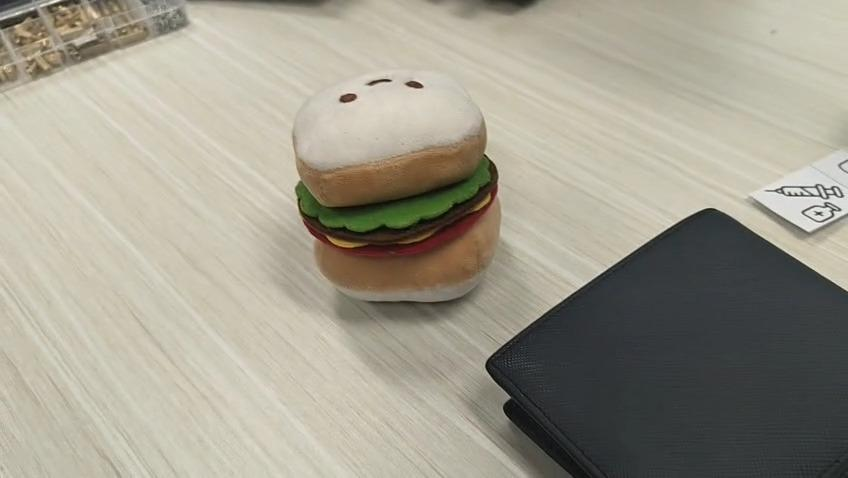objects: (293, 59, 499, 303)
